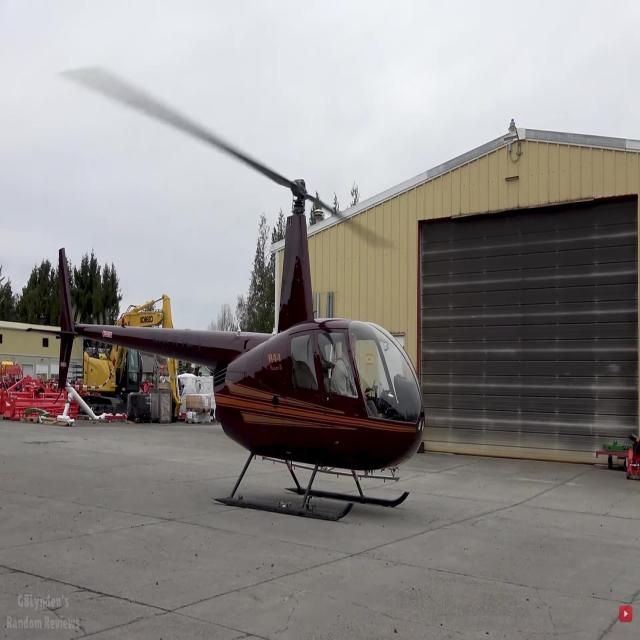CIV_HELO: (24, 173, 428, 528)
